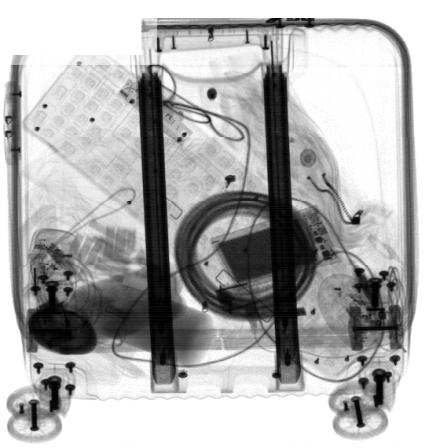Powerbank: (210, 206, 344, 295)
